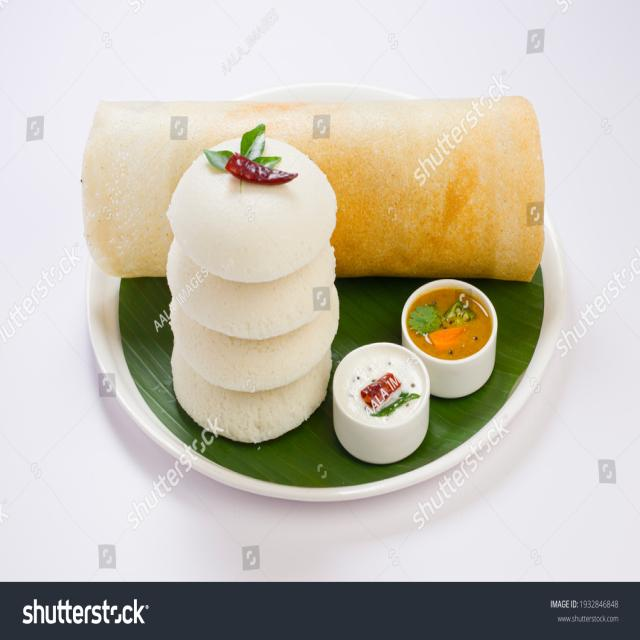DOSA: (78, 95, 546, 281)
IDLI: (170, 122, 341, 446)
